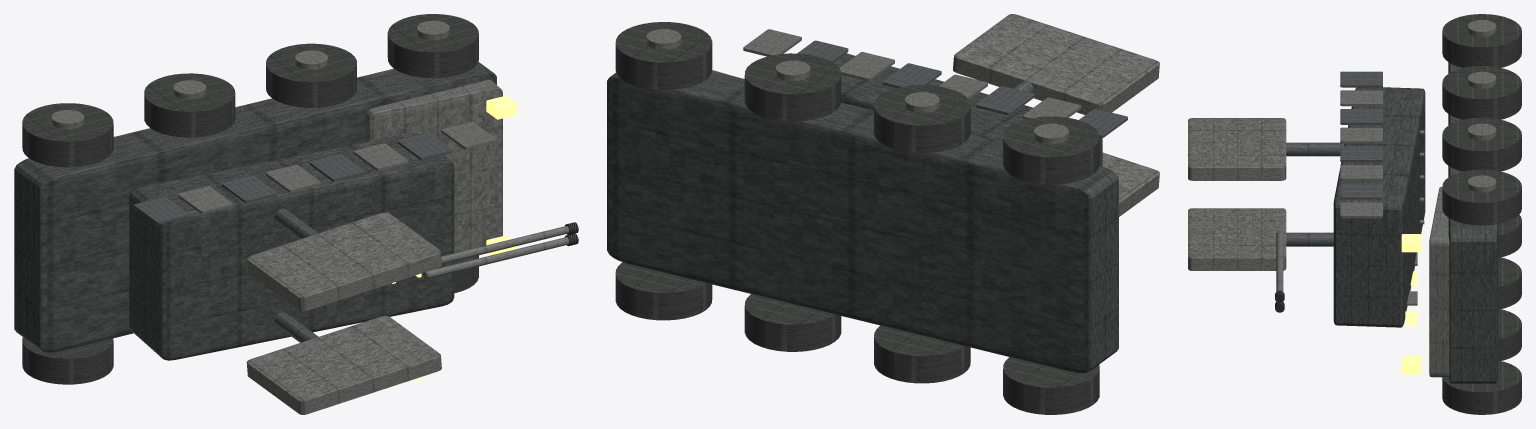
The model's file is c-u16-counter-uas-lod0.glb.
The picture shows the model from 3 angles, left to right: view 1: azimuth 30°, elevation 25°; view 2: azimuth 150°, elevation 25°; view 3: azimuth 270°, elevation 25°; orthographic projection. The views are drawn at different scales.
Visible parts, largest first — view 1: upper_hull, chassis_lower, counter_uas_left_array, counter_uas_right_array, chassis_nose, chassis_wheel_1_1, chassis_wheel_1_0, chassis_wheel_1_3, chassis_wheel_1_2, chassis_wheel_-1_0, counter_uas_gun_barrel_0, counter_uas_gun_barrel_1 (+16 smaller); view 2: chassis_lower, counter_uas_left_array, chassis_wheel_1_3, chassis_wheel_1_2, chassis_wheel_1_0, chassis_wheel_1_1, chassis_wheel_-1_0, chassis_wheel_-1_2, chassis_wheel_-1_3, chassis_wheel_-1_1, upper_hull, counter_uas_right_array (+12 smaller); view 3: upper_hull, chassis_lower, counter_uas_left_array, counter_uas_right_array, chassis_wheel_1_3, chassis_nose, chassis_wheel_1_2, chassis_wheel_1_1, chassis_wheel_1_0, chassis_wheel_-1_3, chassis_wheel_-1_2, chassis_wheel_-1_1 (+18 smaller).
Part boxes in pixels (<box>): upper_hull: <box>129,132,454,360</box>; chassis_lower: <box>14,62,496,352</box>; counter_uas_left_array: <box>246,212,441,311</box>; counter_uas_right_array: <box>246,315,441,414</box>; chassis_nose: <box>365,80,502,252</box>; chassis_wheel_1_1: <box>144,73,235,137</box>; chassis_wheel_1_0: <box>22,103,113,167</box>; chassis_wheel_1_3: <box>387,14,478,78</box>; chassis_wheel_1_2: <box>266,43,356,107</box>; chassis_wheel_-1_0: <box>22,337,113,384</box>; counter_uas_gun_barrel_0: <box>423,237,569,279</box>; counter_uas_gun_barrel_1: <box>441,226,569,264</box>; chassis_lower: <box>607,71,1118,373</box>; counter_uas_left_array: <box>953,14,1159,114</box>; chassis_wheel_1_3: <box>615,22,712,89</box>; chassis_wheel_1_2: <box>744,53,841,121</box>; chassis_wheel_1_0: <box>1003,116,1099,184</box>; chassis_wheel_1_1: <box>874,85,970,152</box>; chassis_wheel_-1_0: <box>1003,357,1099,414</box>; chassis_wheel_-1_2: <box>744,294,841,351</box>; chassis_wheel_-1_3: <box>615,262,712,320</box>; chassis_wheel_-1_1: <box>874,325,970,383</box>; upper_hull: <box>834,53,1102,166</box>; counter_uas_right_array: <box>1102,152,1159,216</box>; upper_hull: <box>1333,87,1425,327</box>; chassis_lower: <box>1448,62,1498,383</box>; counter_uas_left_array: <box>1188,118,1286,180</box>; counter_uas_right_array: <box>1188,208,1286,270</box>; chassis_wheel_1_3: <box>1442,169,1521,225</box>; chassis_nose: <box>1429,187,1449,377</box>; chassis_wheel_1_2: <box>1442,117,1521,171</box>; chassis_wheel_1_1: <box>1442,66,1521,119</box>; chassis_wheel_1_0: <box>1442,14,1521,67</box>; chassis_wheel_-1_3: <box>1442,360,1521,414</box>; chassis_wheel_-1_2: <box>1498,308,1521,360</box>; chassis_wheel_-1_1: <box>1498,257,1521,308</box>.
Size of what is drawn, in the model's own units: 6.01 by 3.19 by 4.36.
7 materials, 7 textured.
